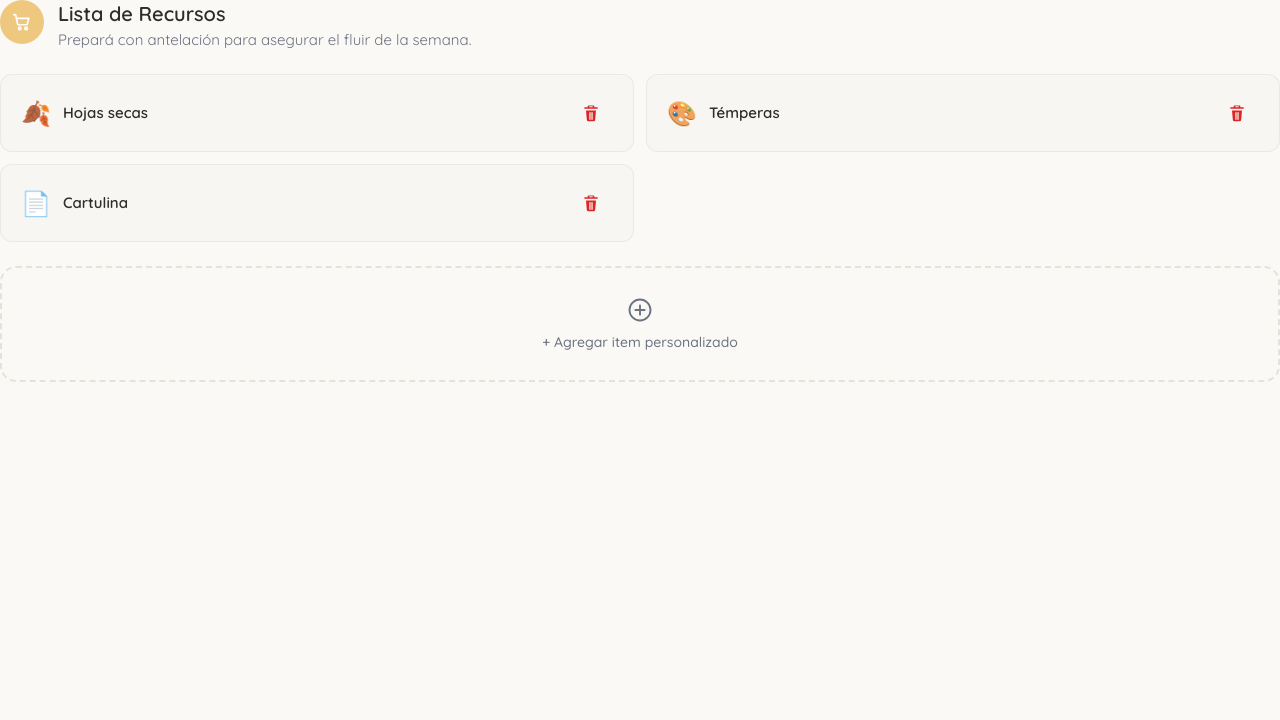
Test: MaterialesTab - eliminar material › cancelar cierra el diálogo y no borra
The width and height of the screenshot is (1280, 720).
Click the button named "Eliminar material: Hojas secas" at (591, 113), box [569, 91, 613, 135]
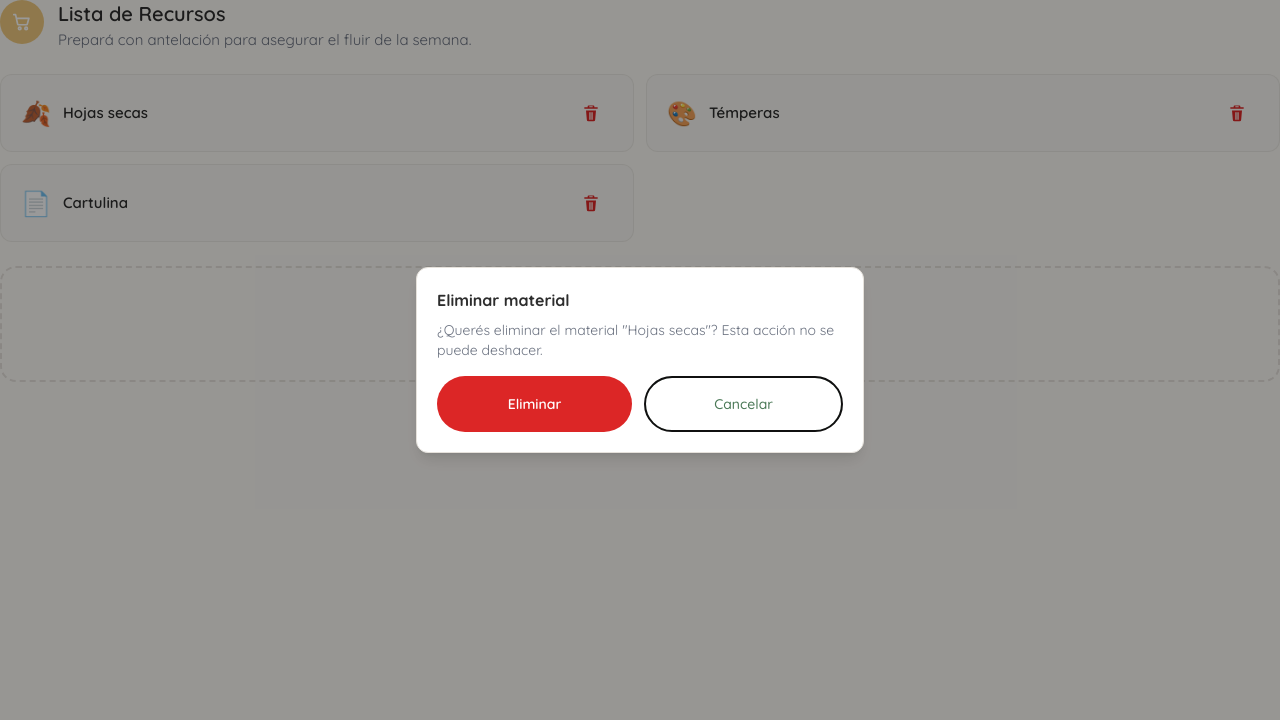
Click the button "Cancelar" at (744, 404), box [644, 376, 843, 432]
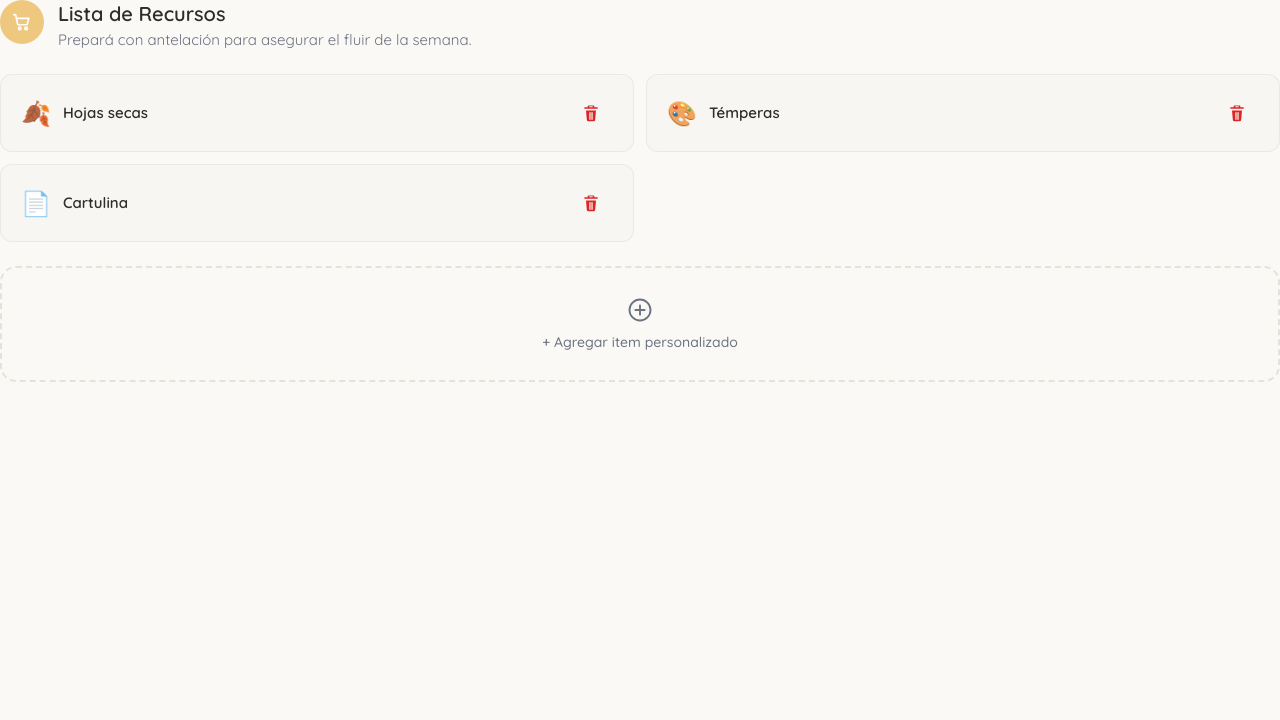
Now the dialog is gone
